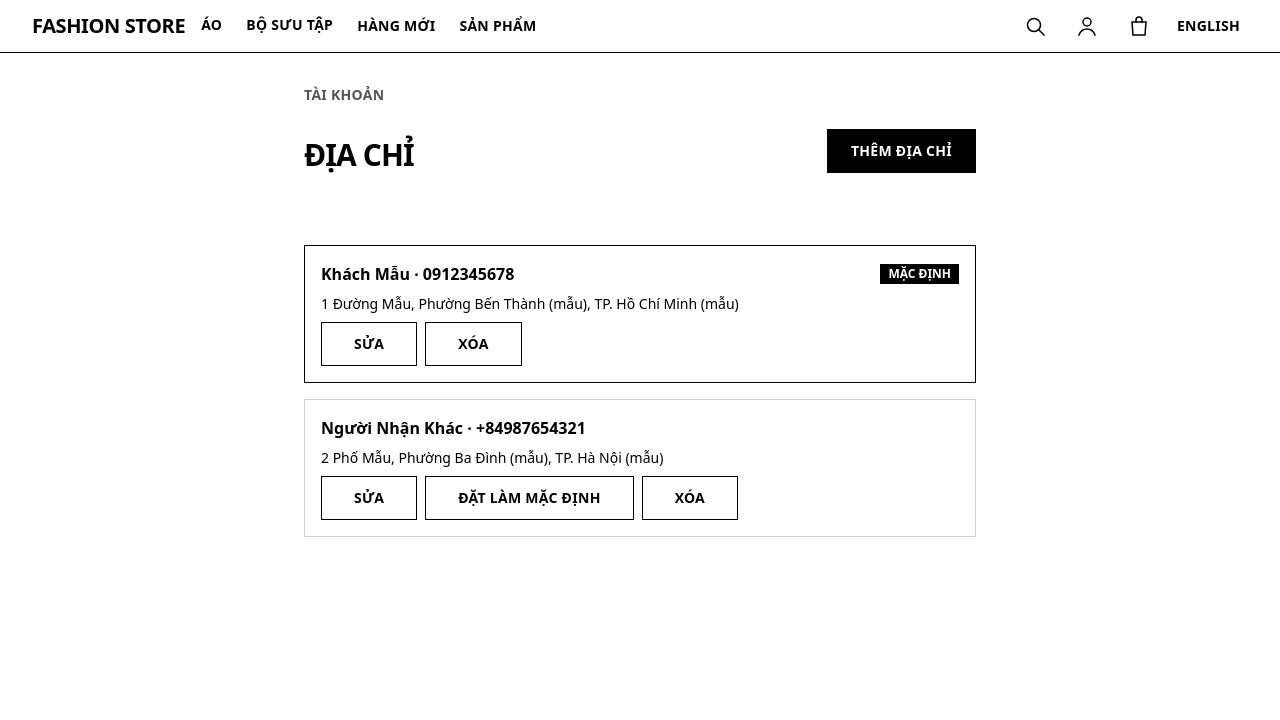
Test: a server 400 on delete is shown
Click the button "Xóa" below "Khách Mẫu": (473,344) [425, 322, 522, 366]
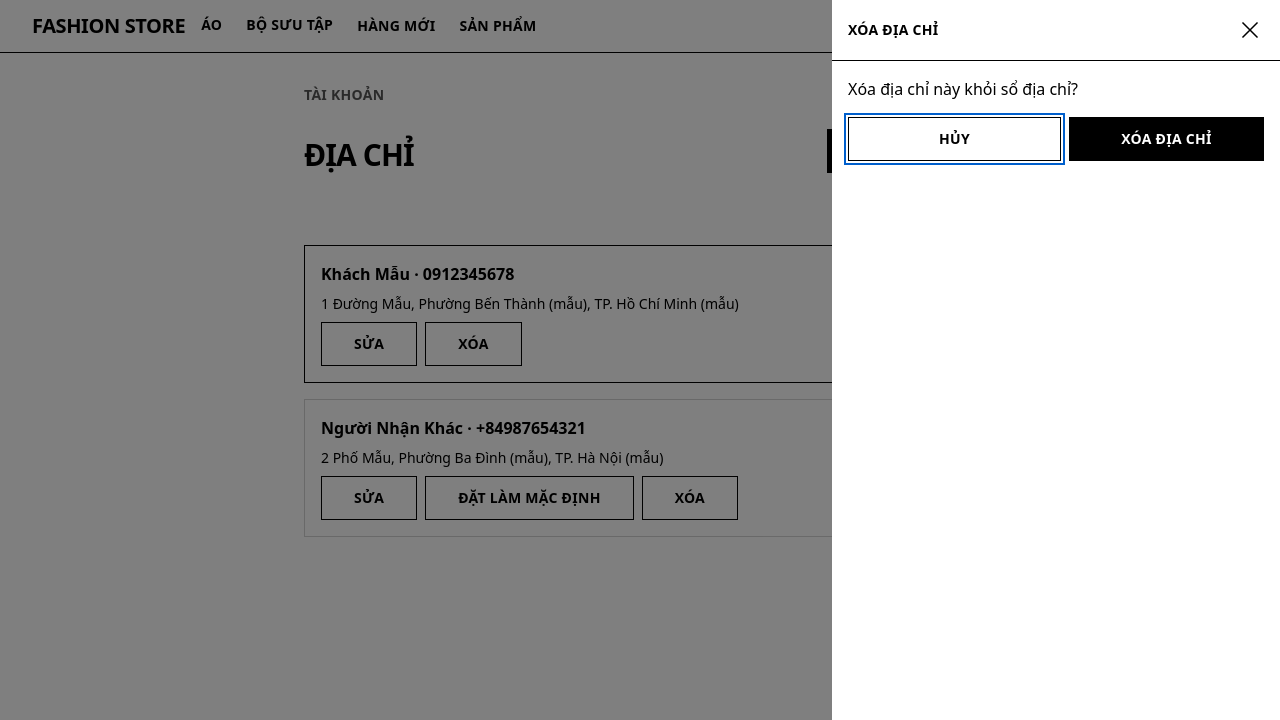
Click the button "Xóa địa chỉ": (1166,139) [1069, 117, 1264, 161]
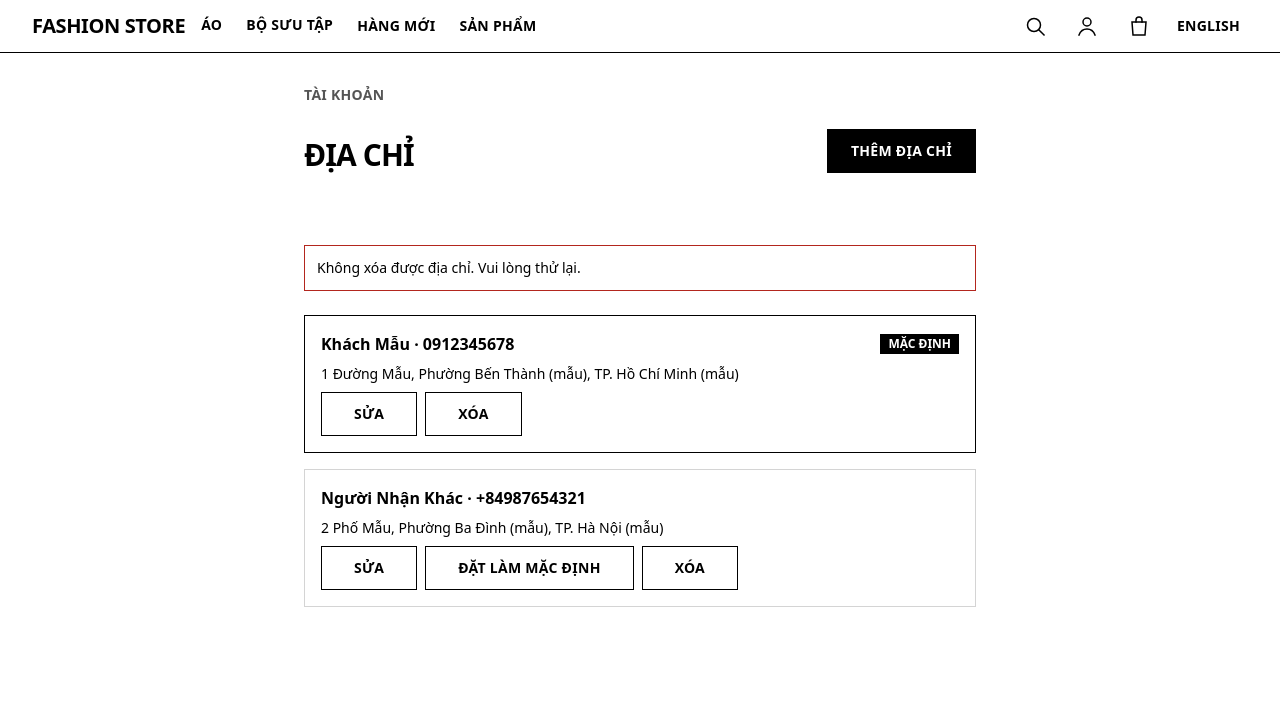
Result: the message "Không xóa được địa chỉ. Vui lòng thử lại." is shown at [304, 245, 976, 291]
